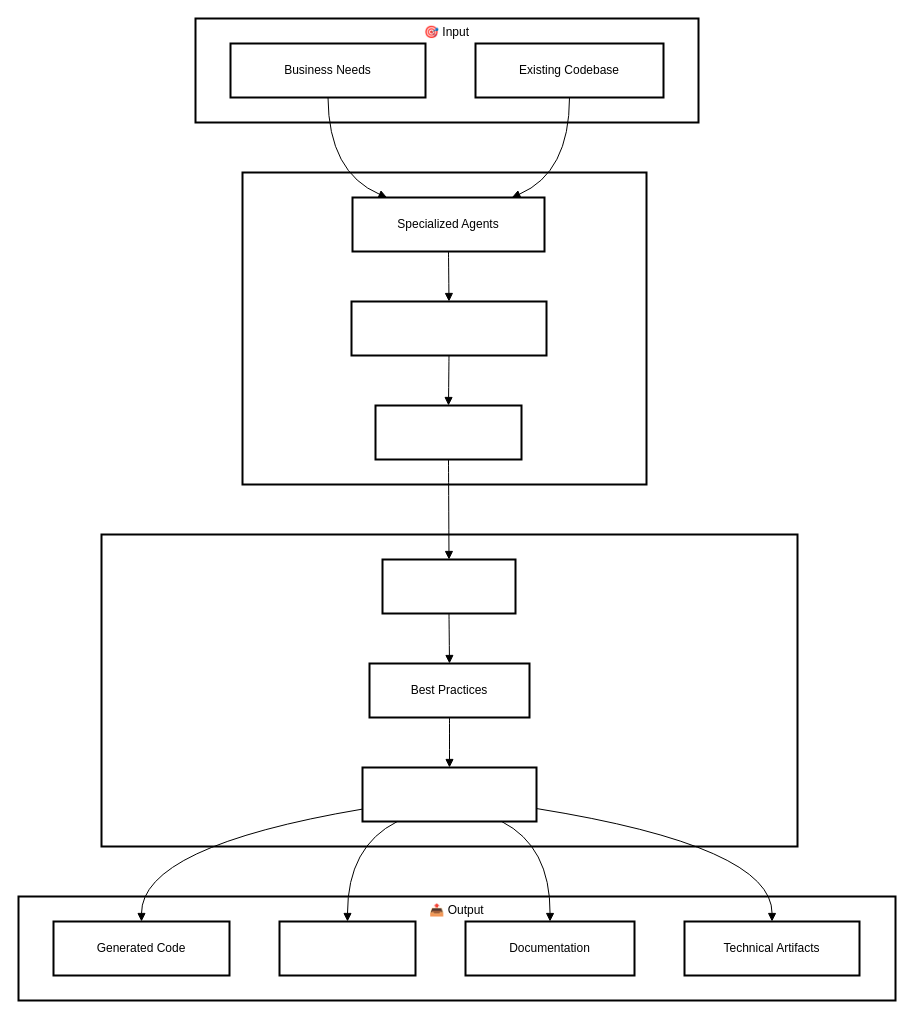
Image size: 913x1018. Some labels were removed from this diagram. The centre of each missing label's shape, as x and y in pixels:
"Custom Commands" belongs at (x=448, y=328).
"MCP Servers" belongs at (x=448, y=432).
"Templates" belongs at (x=448, y=586).
"Test Suites" belongs at (x=347, y=948).
"Validation Rules" belongs at (x=449, y=794).
